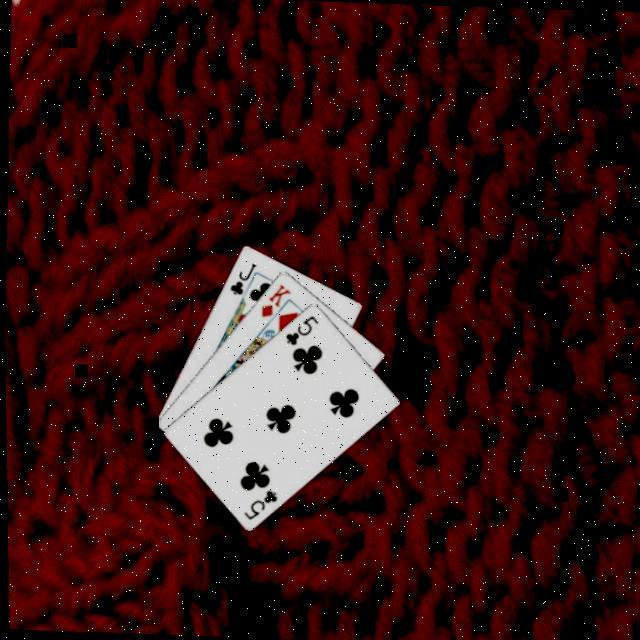5C: (238, 486, 278, 524), (279, 312, 320, 348)
JC: (224, 258, 257, 298)
KD: (256, 280, 292, 321)
